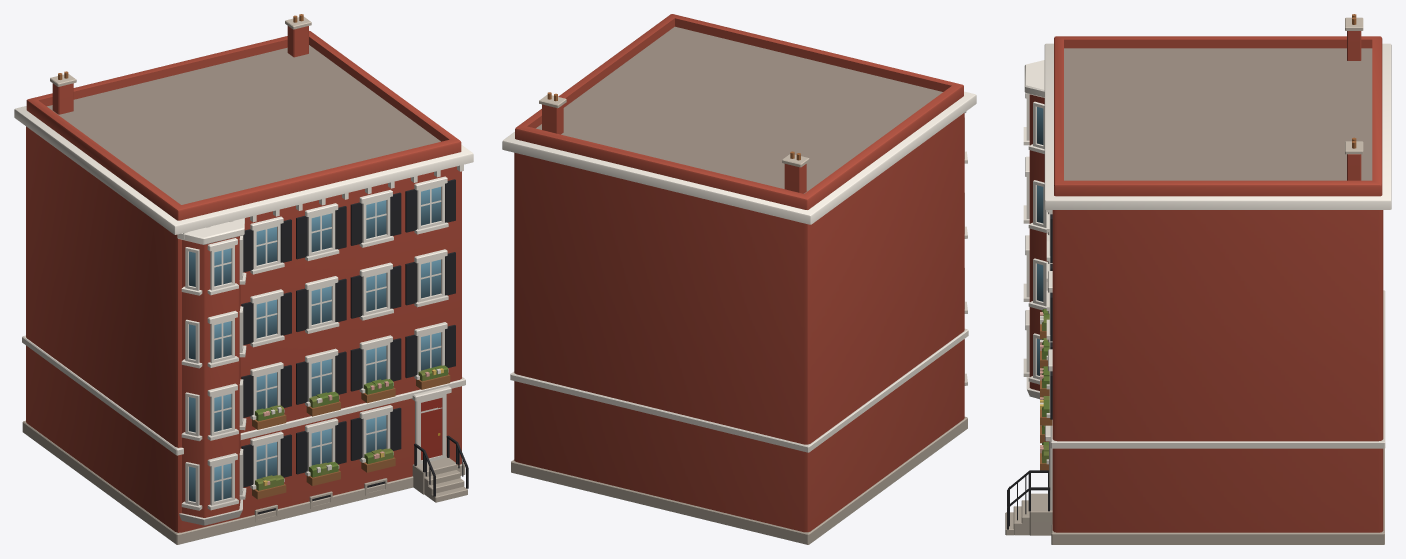
File: winter_n2.glb
3 views of the same model, side by side, from view 1: azimuth 30°, elevation 25°; view 2: azimuth 150°, elevation 25°; view 3: azimuth 270°, elevation 25° (orthographic). The views are drawn at different scales.
Visible parts, largest first — view 1: winter_n2; view 2: winter_n2; view 3: winter_n2.
Boxes of the visible parts, x1=… form: winter_n2: x1=14, y1=14, x2=473, y2=544; winter_n2: x1=502, y1=14, x2=976, y2=544; winter_n2: x1=1005, y1=14, x2=1391, y2=544.
Size of the model in its own units: 14.64 by 16.94 by 15.18.
1 material, 1 textured.
